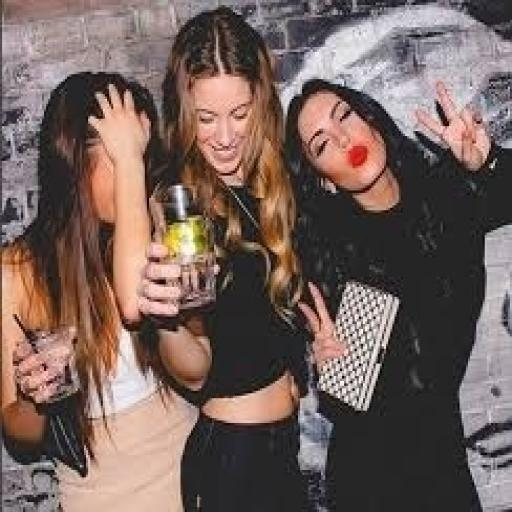drinking: (156, 183, 218, 312)
